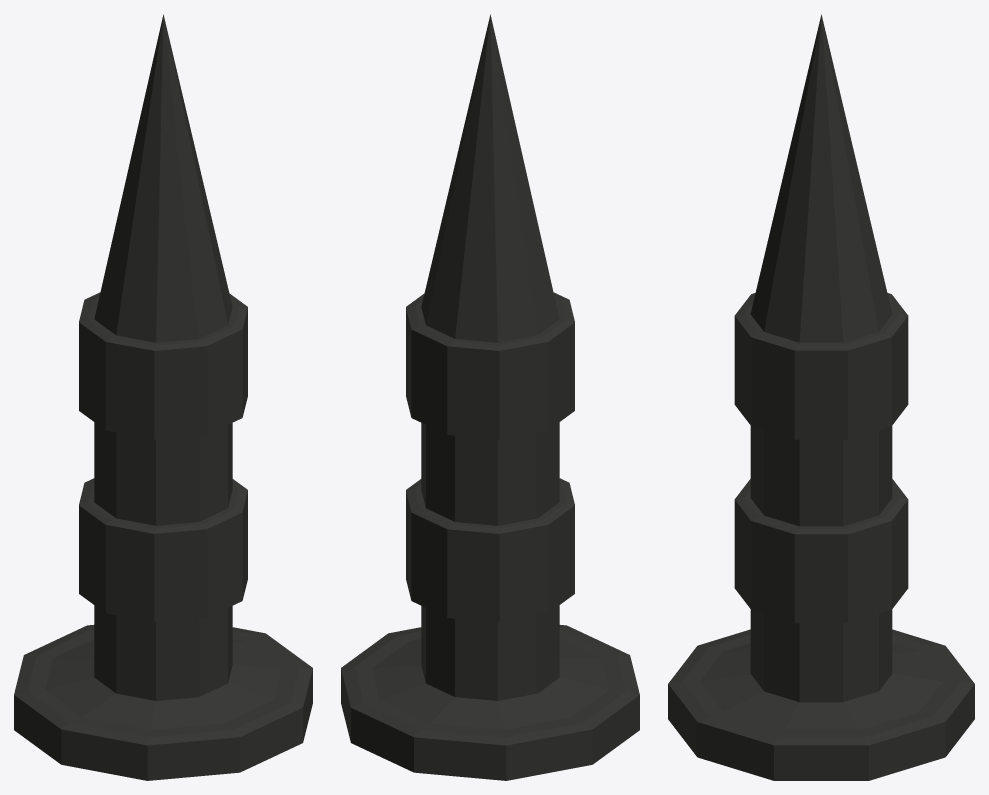
Rendered from Peca03.fbx.
The picture shows the model from 3 angles, left to right: view 1: azimuth 30°, elevation 25°; view 2: azimuth 150°, elevation 25°; view 3: azimuth 270°, elevation 25°; orthographic projection.
Visible parts, largest first — view 1: Cylinder; view 2: Cylinder; view 3: Cylinder.
Boxes of the visible parts, left/top/right/bottom form: Cylinder: left=14, top=14, right=312, bottom=780; Cylinder: left=341, top=14, right=639, bottom=780; Cylinder: left=668, top=14, right=974, bottom=780.
Bounding box in the file's own units: 190 × 516 × 200.
